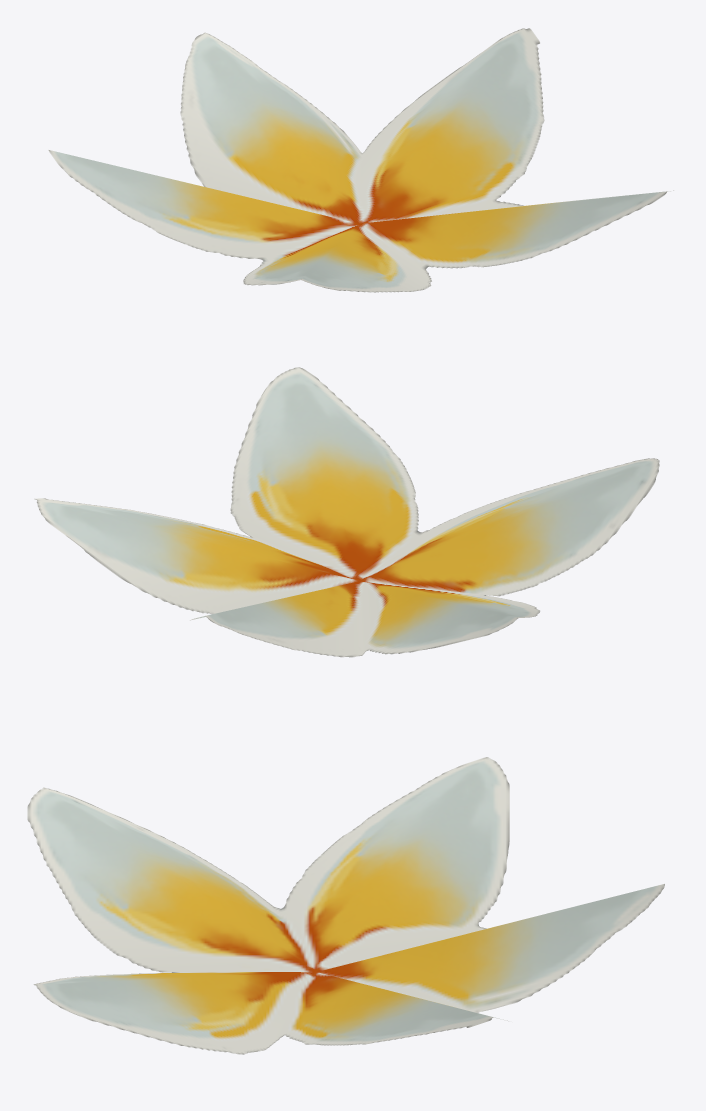
Rendered from SM_FleurSpline_01.fbx.
3 renders of one model, top to bottom at view 1: azimuth 30°, elevation 25°; view 2: azimuth 150°, elevation 25°; view 3: azimuth 270°, elevation 25°, orthographic. The views are drawn at different scales.
Visible parts, largest first — view 1: SM_FleurSpline_01; view 2: SM_FleurSpline_01; view 3: SM_FleurSpline_01.
Boxes of the visible parts, x1,y1,x2,y2 form: SM_FleurSpline_01: (48,28,673,292); SM_FleurSpline_01: (34,367,659,657); SM_FleurSpline_01: (27,757,664,1054).
Bounding box in the file's own units: 21.06 × 3.25 × 20.98.
Materials: 1 (1 with a texture image).
